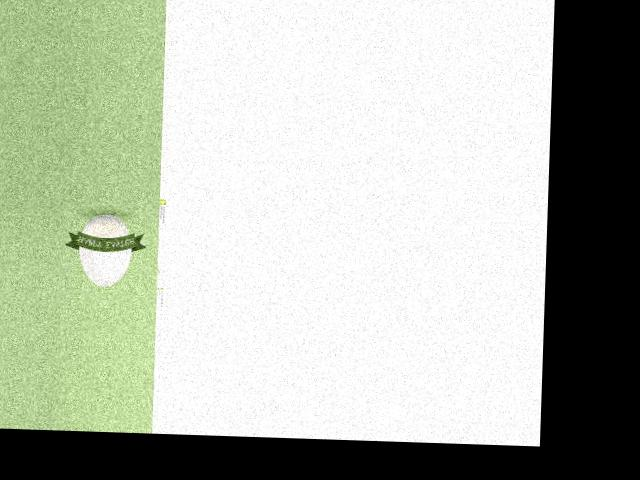egg: (79, 213, 133, 287)
